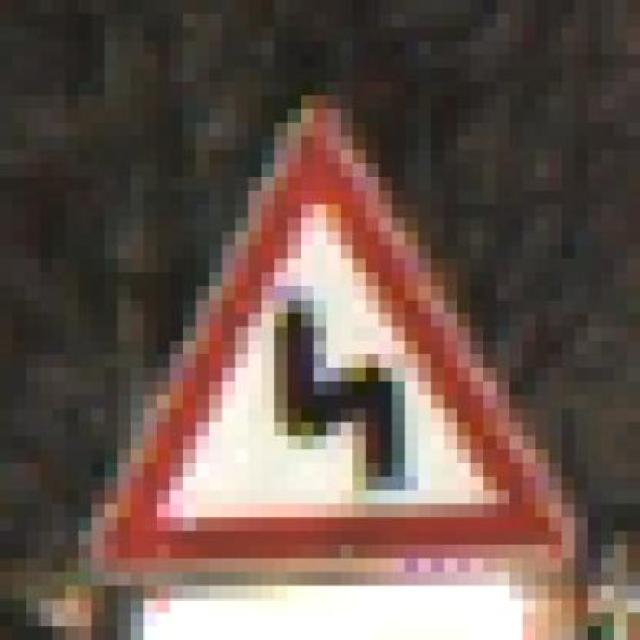Left Zig Zag Traffic: (91, 68, 614, 572)
